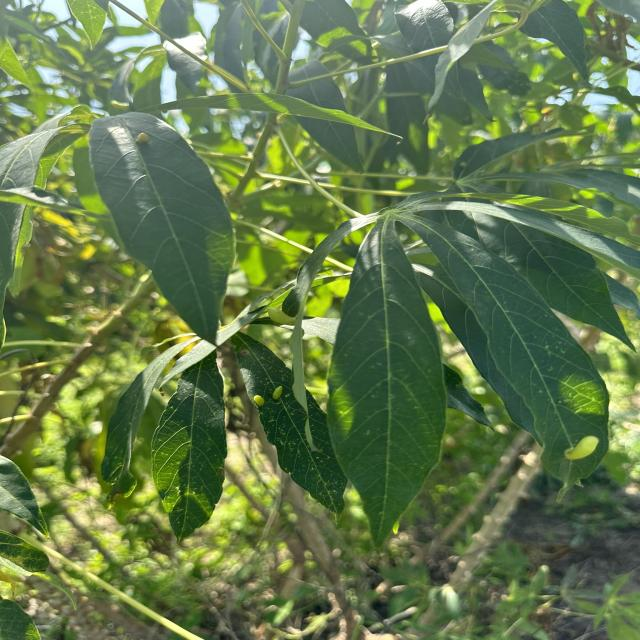Mosca: (562, 414, 615, 465), (247, 384, 305, 421), (127, 121, 169, 158)
